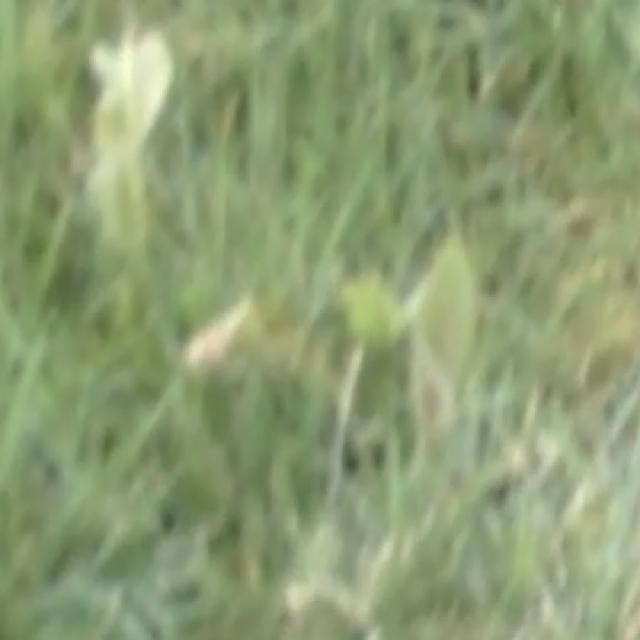organic waste: (144, 202, 539, 460), (41, 13, 234, 226)
